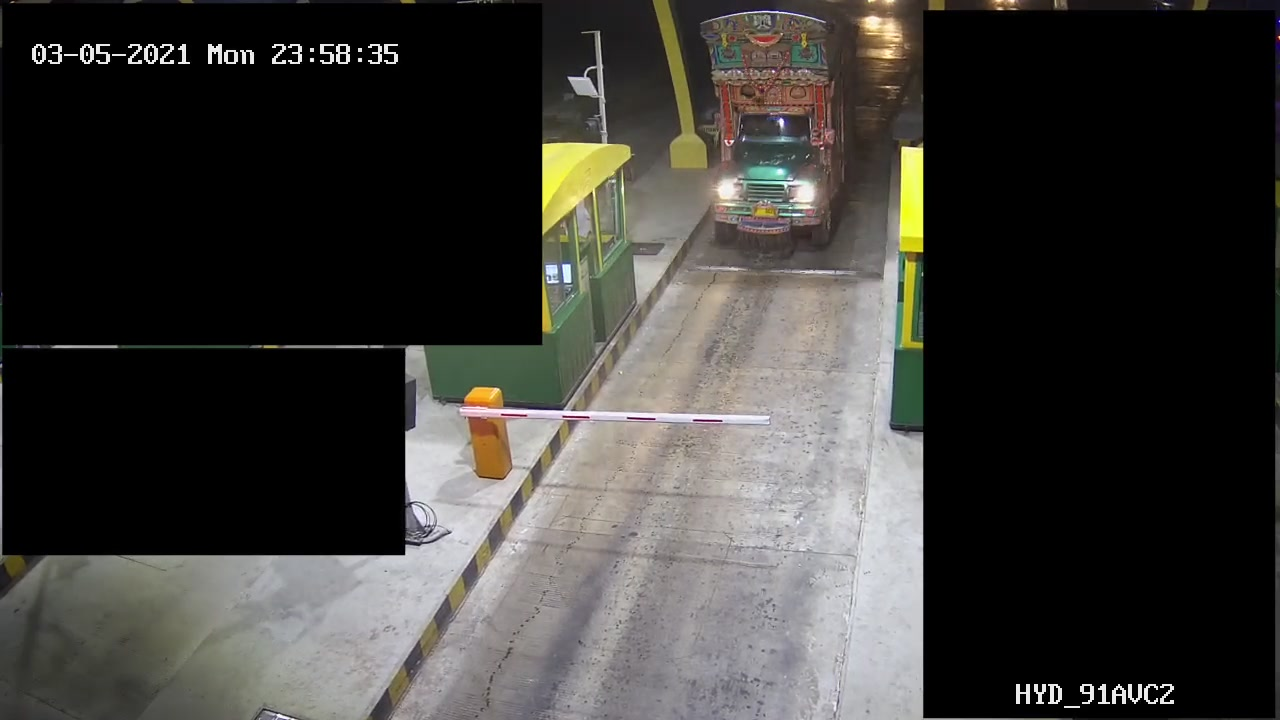F5: (693, 1, 866, 252)
